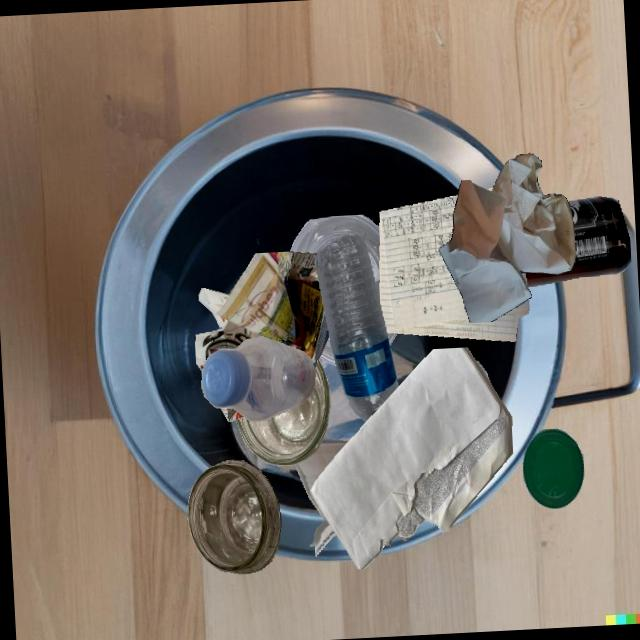glass: (188, 460, 282, 574), (236, 359, 331, 466), (525, 196, 631, 286)
paper: (310, 347, 513, 570), (439, 153, 576, 323), (380, 195, 529, 341), (195, 252, 329, 371), (294, 438, 349, 556)
plastic: (315, 235, 398, 422), (202, 336, 315, 421), (329, 237, 390, 346), (523, 429, 584, 509), (333, 215, 380, 303), (476, 360, 491, 385)
